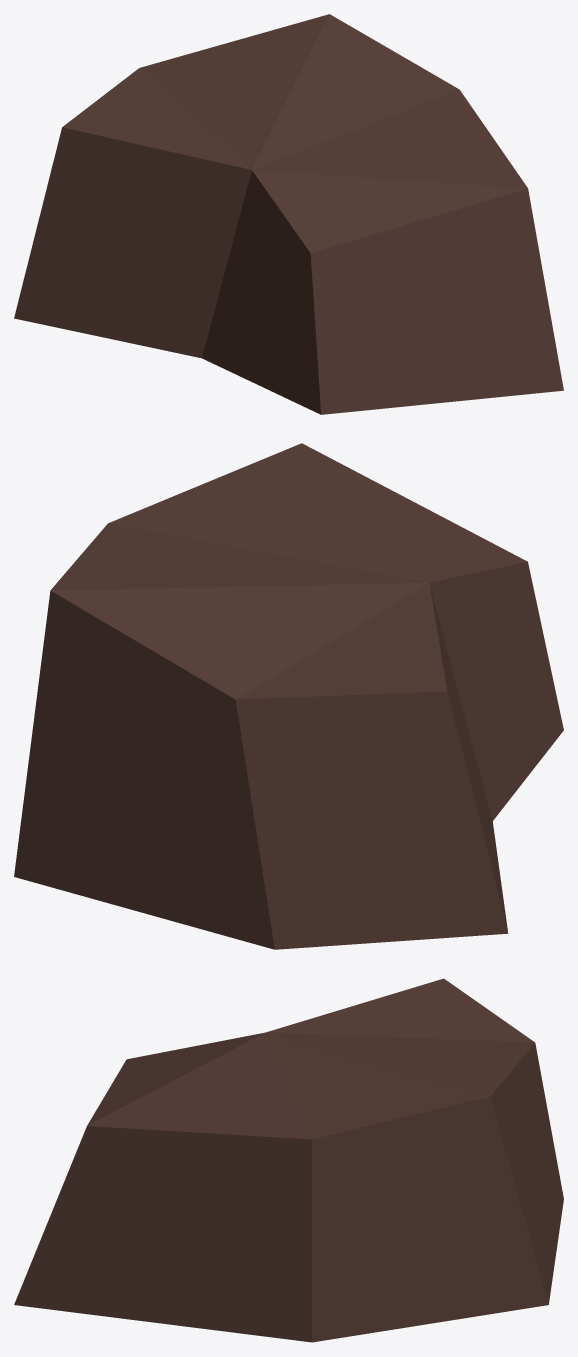
The model's file is FlatRock-C11.fbx.
3 views of the same model, one above another, from view 1: azimuth 30°, elevation 25°; view 2: azimuth 150°, elevation 25°; view 3: azimuth 270°, elevation 25° (orthographic). The views are drawn at different scales.
Parts seen in each view (by area): view 1: FlatRock-C11; view 2: FlatRock-C11; view 3: FlatRock-C11.
Boxes of the visible parts, x1,y1,x2,y2 form: FlatRock-C11: [14, 14, 563, 414]; FlatRock-C11: [14, 443, 563, 949]; FlatRock-C11: [14, 978, 563, 1342].
Size of the model in its own units: 116 by 54.84 by 131.
